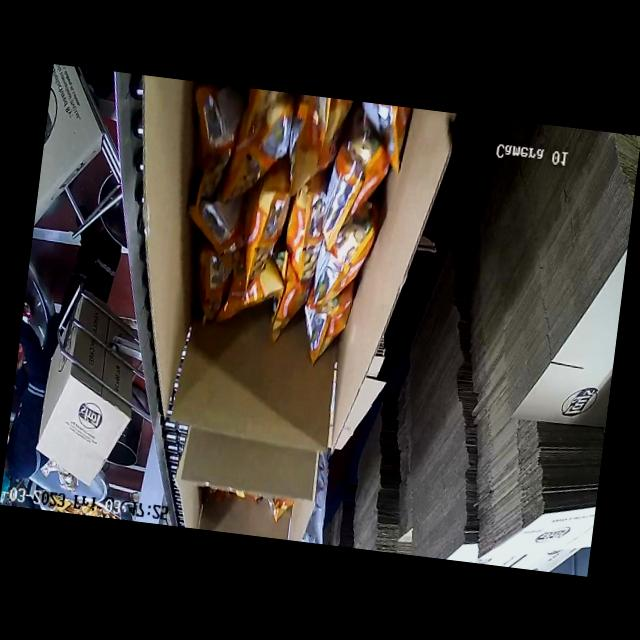cheese: (178, 83, 404, 365)
